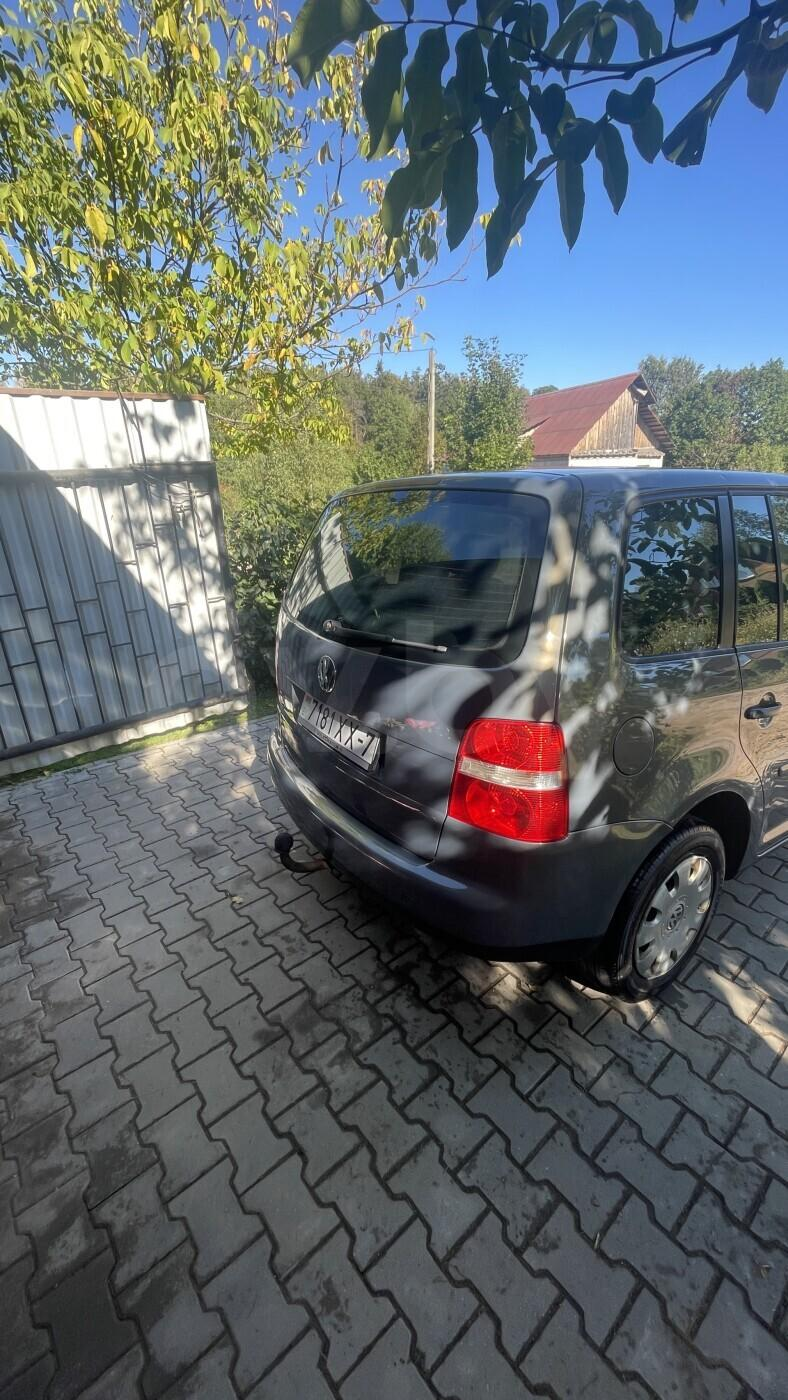Touran_2003-2006: (268, 448, 788, 984)
